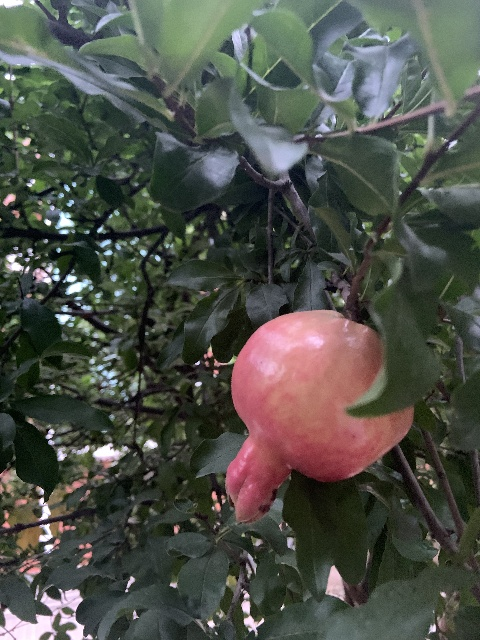ripe: (223, 309, 412, 523)
